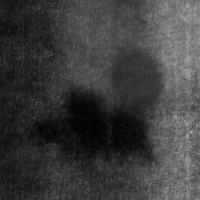patches: (57, 0, 200, 115), (31, 85, 105, 151), (108, 44, 164, 111), (106, 111, 150, 154)
